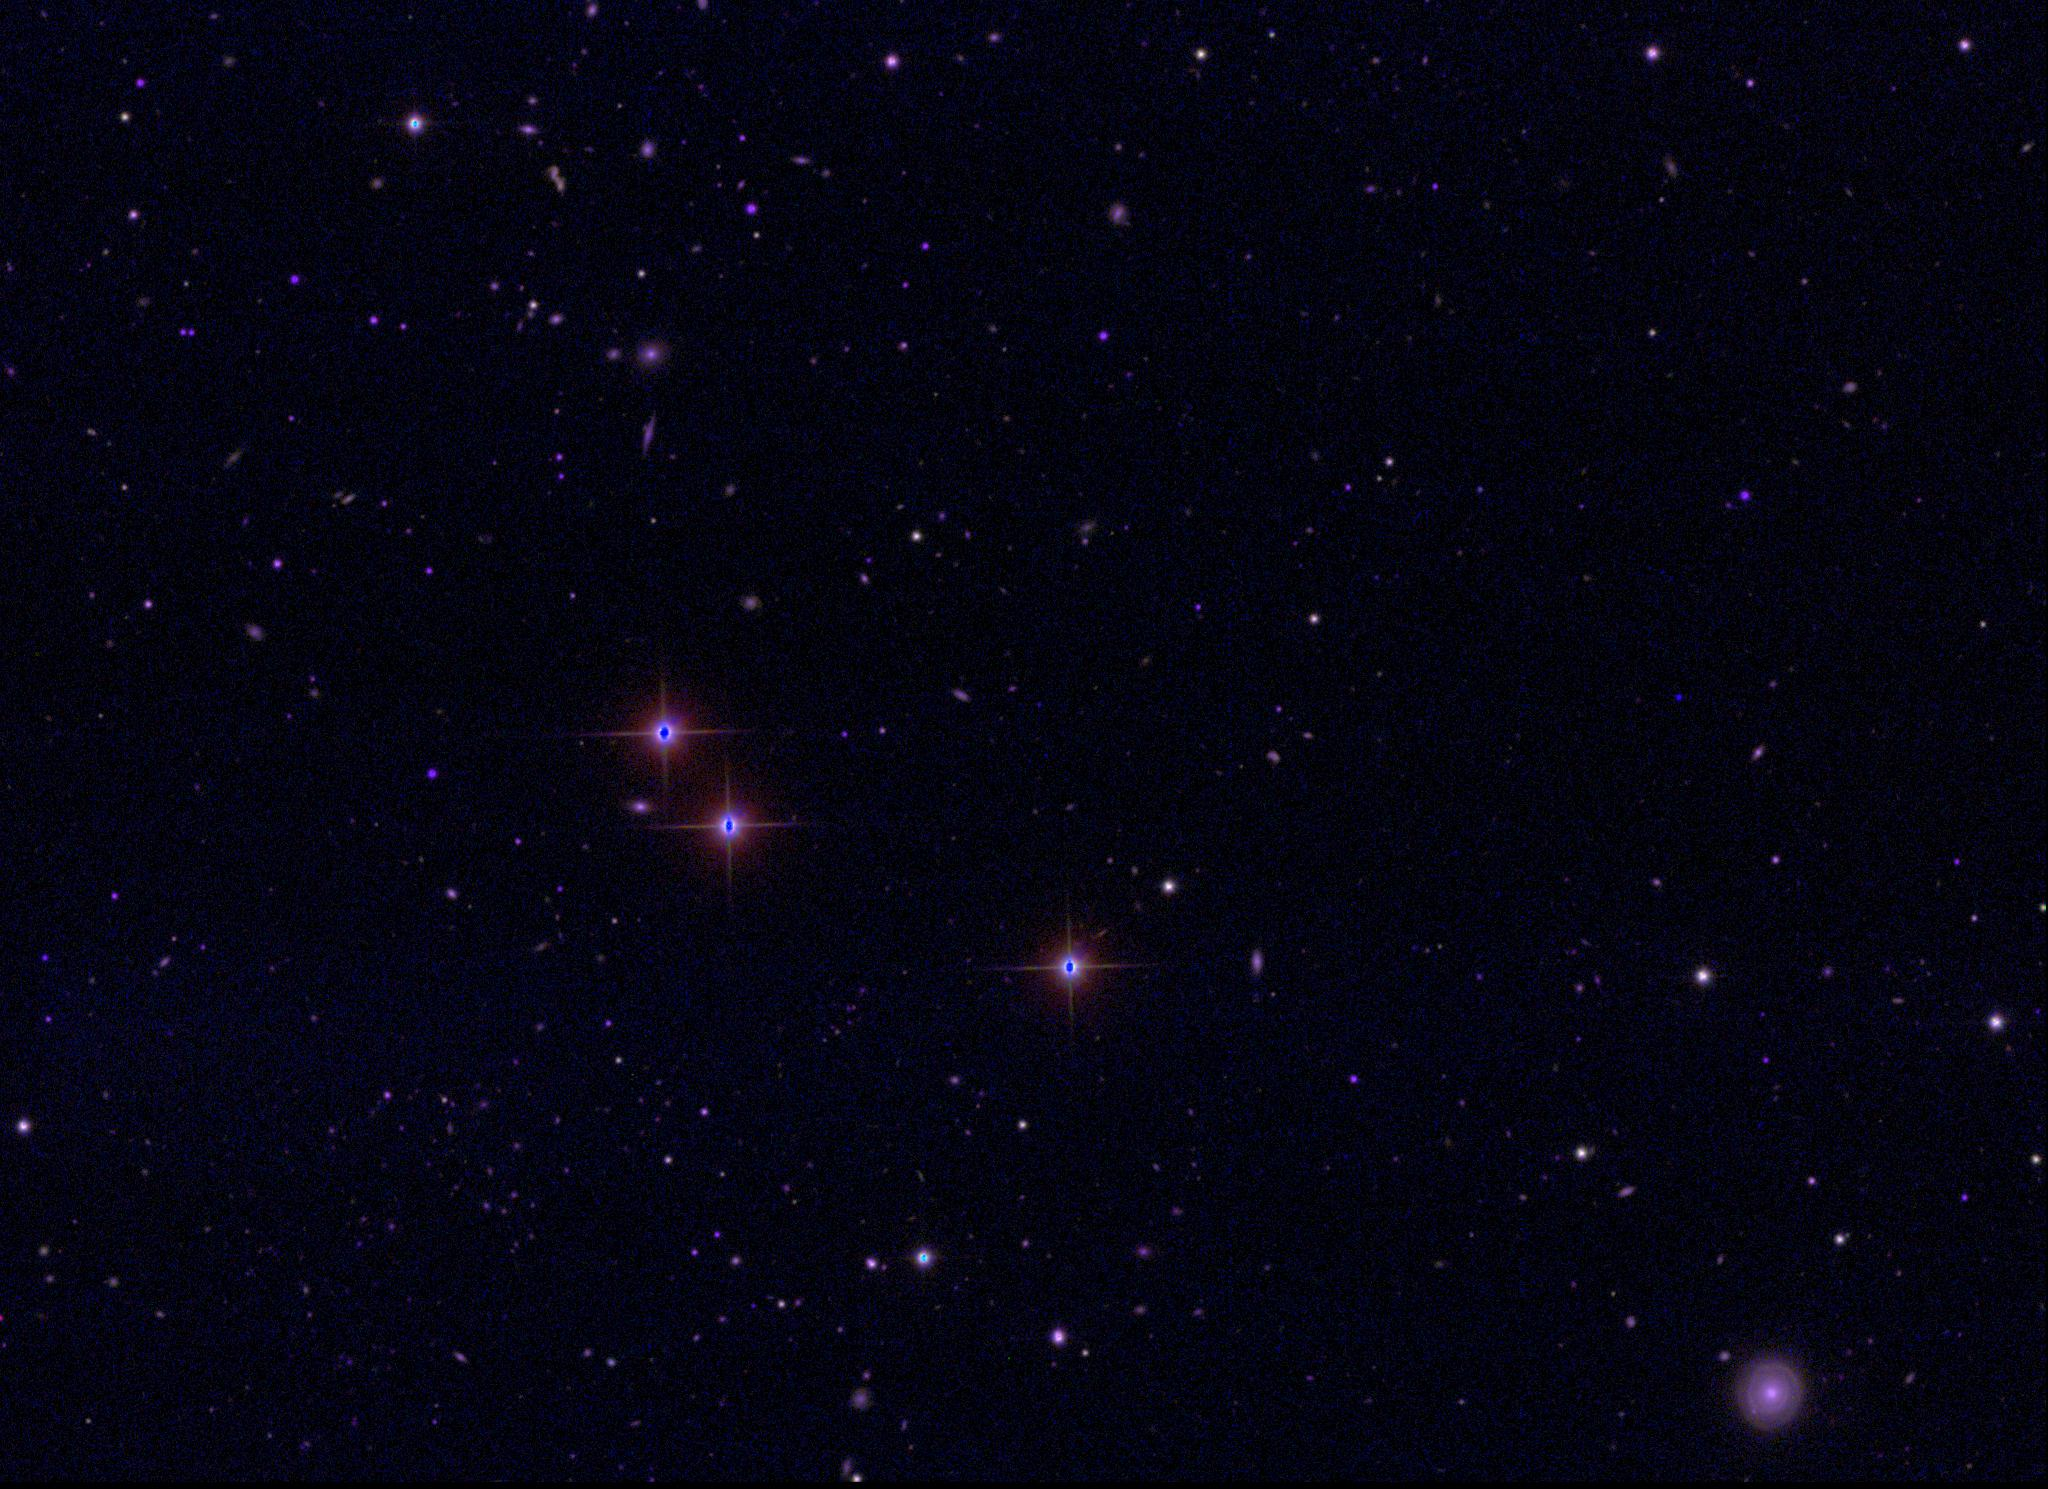L: (1673, 690, 1685, 705)
